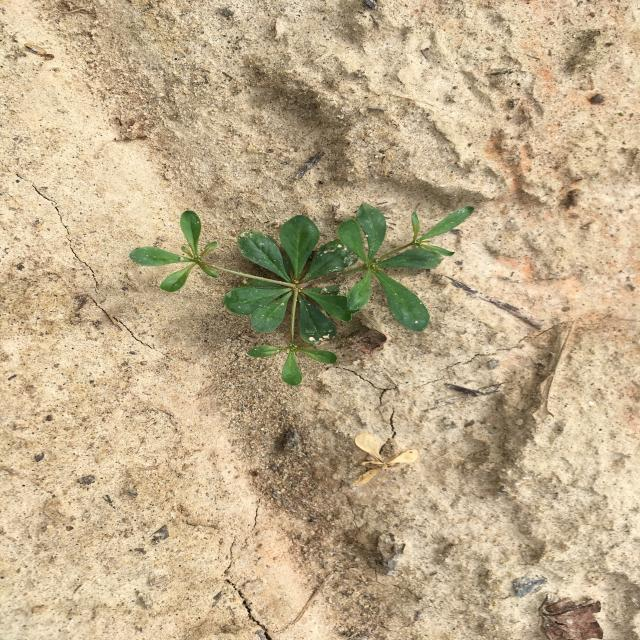Carpetweed: (128, 203, 475, 386)
